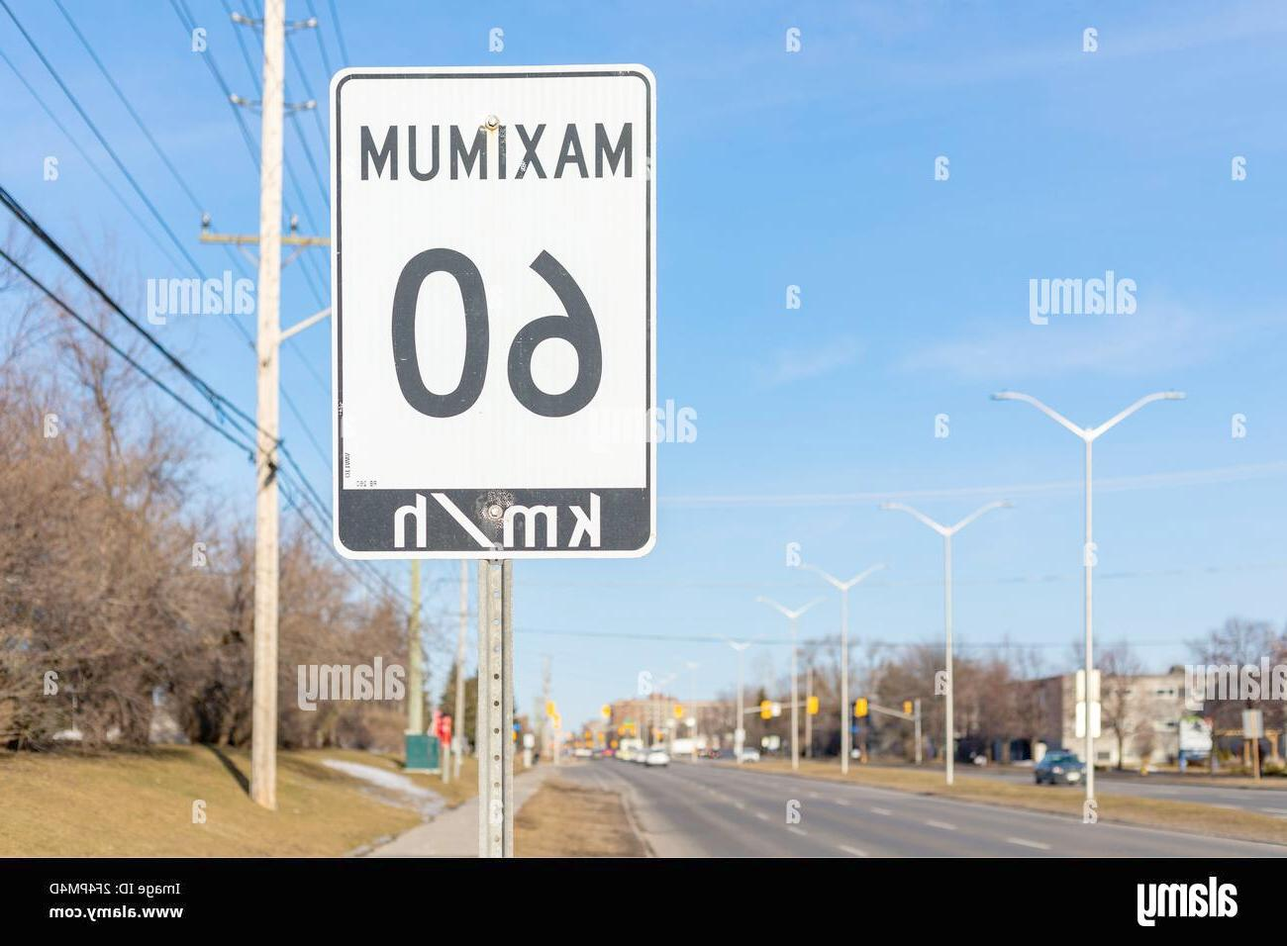speed limit sign: (335, 66, 657, 557)
